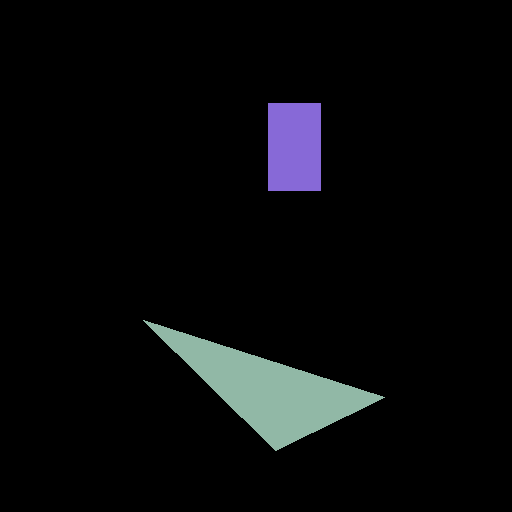rectangle: (268, 103, 320, 190)
triangle: (143, 320, 384, 450)
